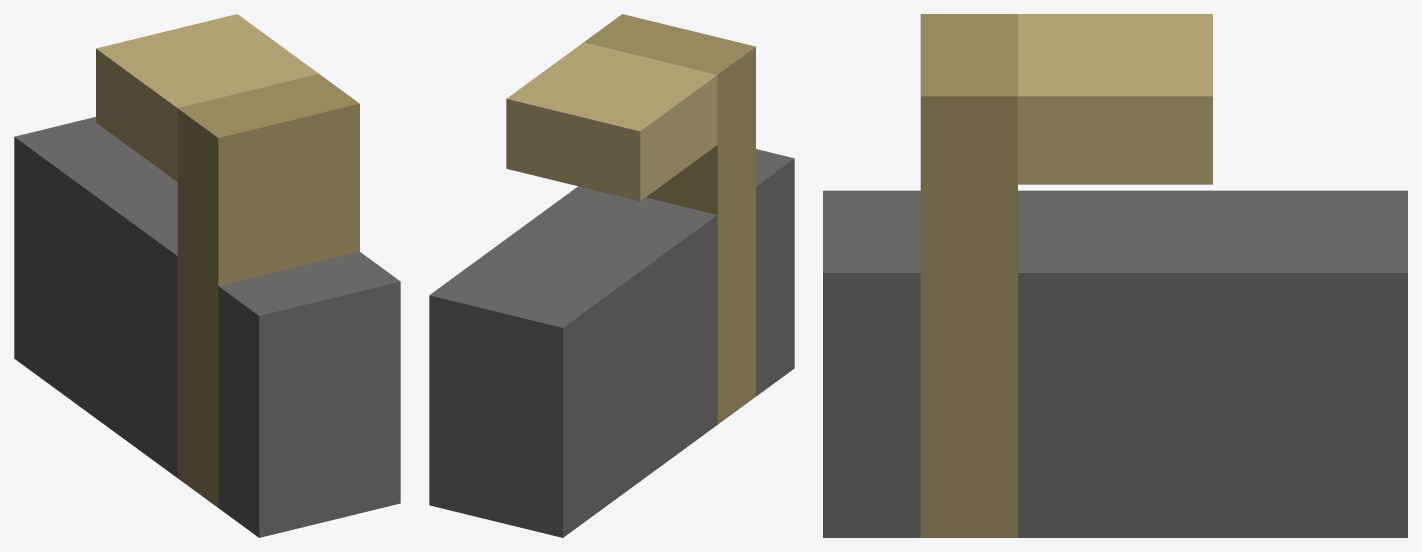
The model's file is sight.glb.
3 views of the same model, side by side, from view 1: azimuth 30°, elevation 25°; view 2: azimuth 150°, elevation 25°; view 3: azimuth 270°, elevation 25° (orthographic). The views are drawn at different scales.
Size of the model in its own units: 2 by 5 by 6.
